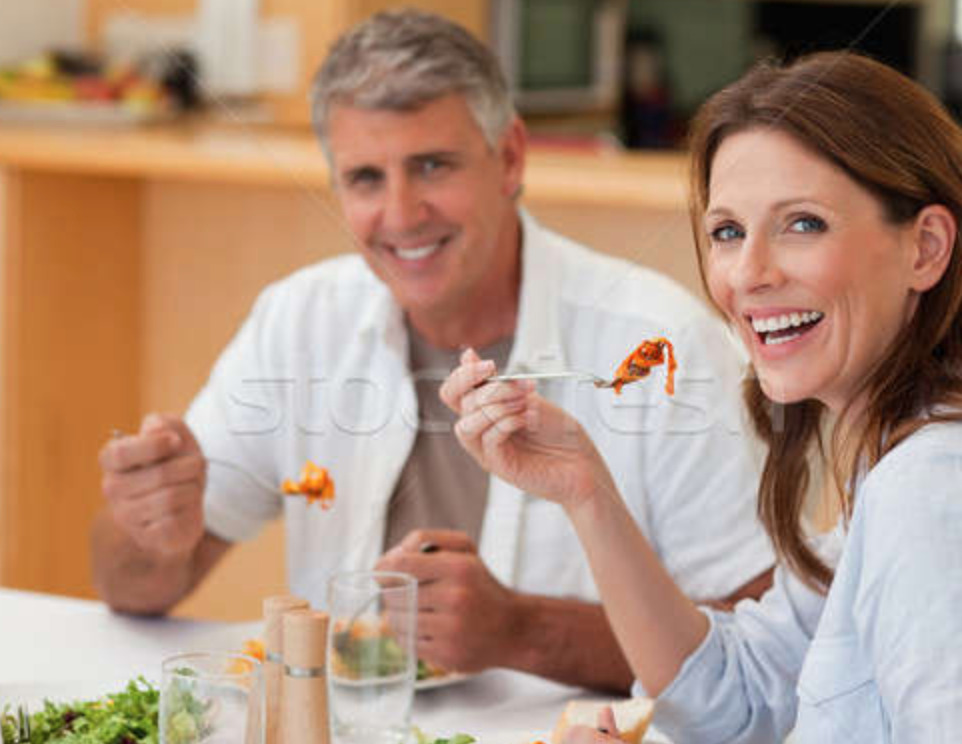Bad: (2, 11, 962, 569)
